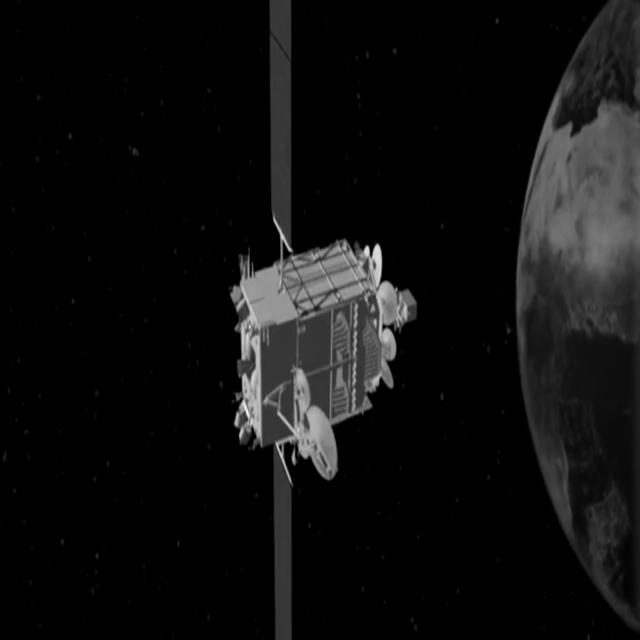satellite: (197, 0, 427, 640)
